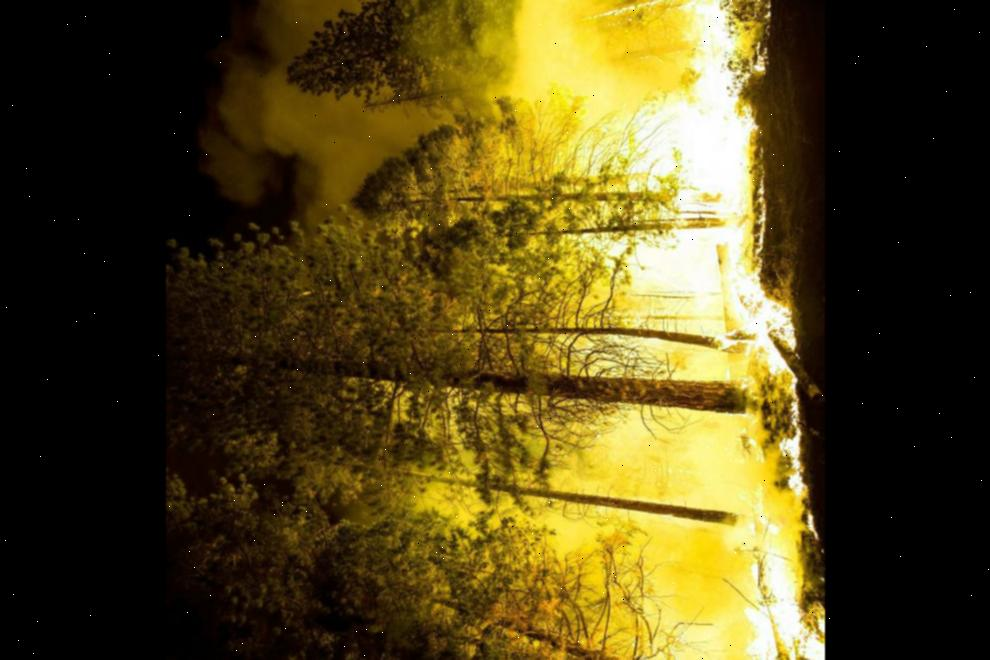fire: (701, 248, 825, 660), (555, 0, 756, 217)
